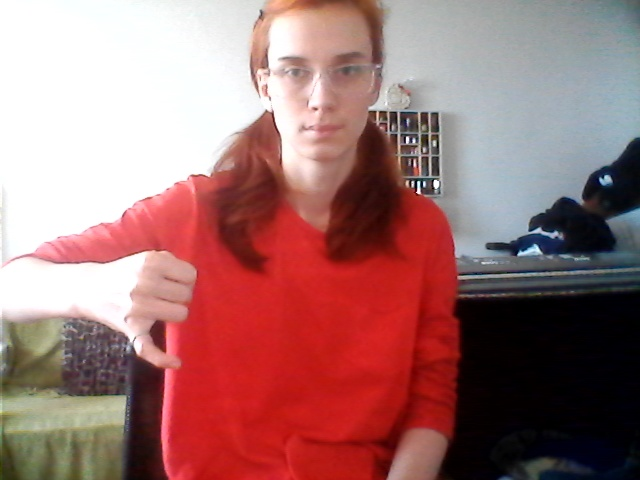j: (85, 237, 219, 378)
